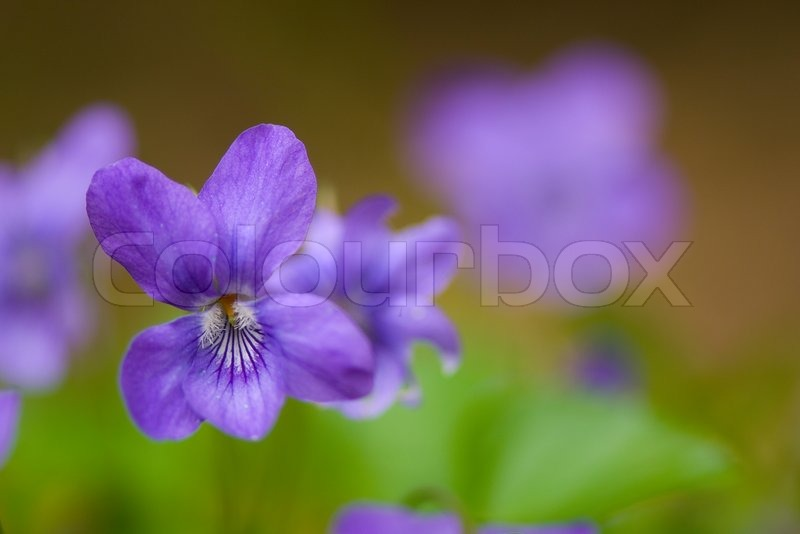violet: (78, 121, 388, 449)
